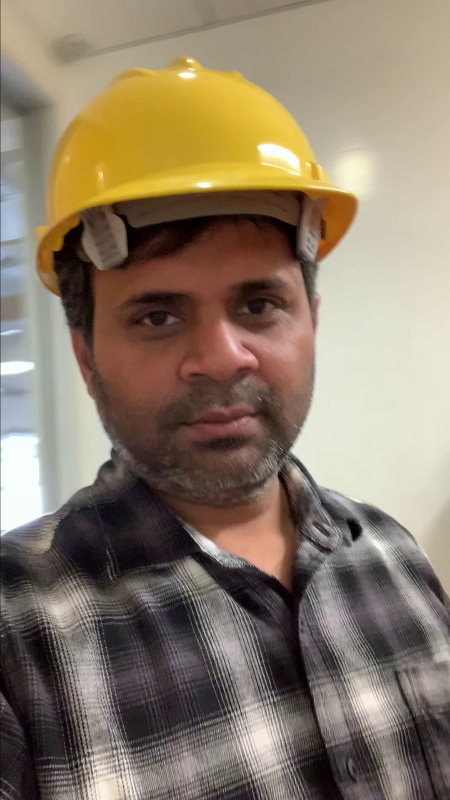helmet: (29, 49, 359, 245)
